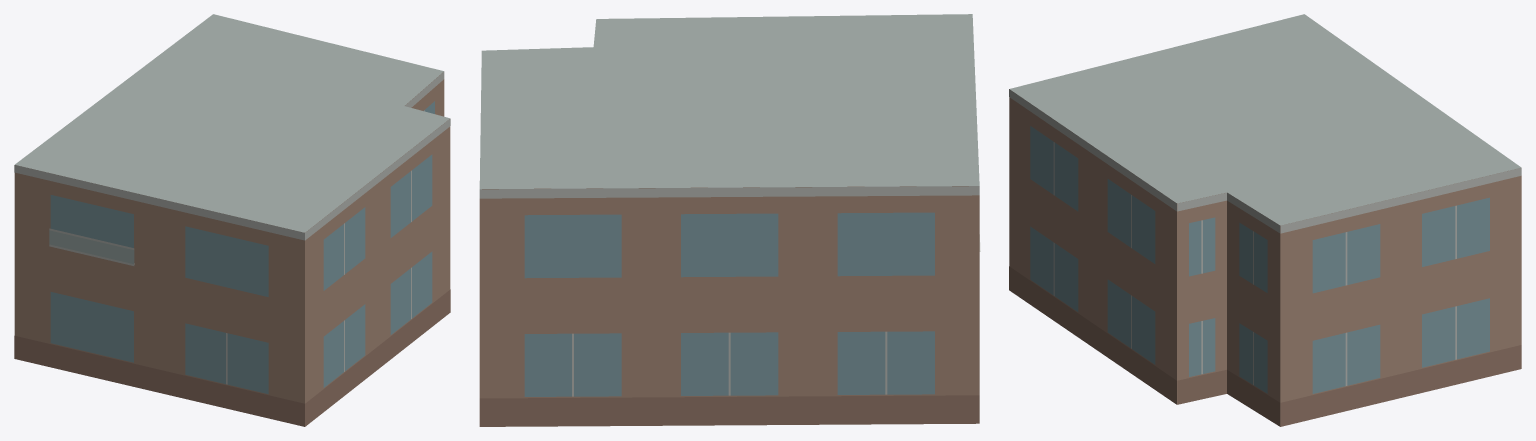
File: survey-upis-32656262.glb
The picture shows the model from 3 angles, left to right: view 1: azimuth 30°, elevation 25°; view 2: azimuth 150°, elevation 25°; view 3: azimuth 270°, elevation 25°; orthographic projection. The views are drawn at different scales.
Visible parts, largest first — view 1: survey-upis-32656262.tmp; view 2: survey-upis-32656262.tmp; view 3: survey-upis-32656262.tmp.
Part boxes in pixels (left/top/right/bottom): survey-upis-32656262.tmp: left=14, top=14, right=450, bottom=426; survey-upis-32656262.tmp: left=479, top=14, right=980, bottom=426; survey-upis-32656262.tmp: left=1009, top=14, right=1521, bottom=426.
Size of the model in its own units: 13.76 by 6.1 by 14.09.
